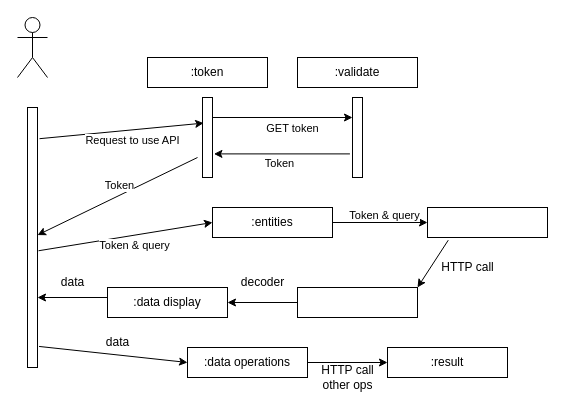
Some shapes in this 565 by 415 pixel diagram are drawn without their labels. Each missing label, with the centre of its shape:
":data decoding" belongs at point 357,302.
":request execute" belongs at point 487,222.
"Actor" belongs at point 32,47.
